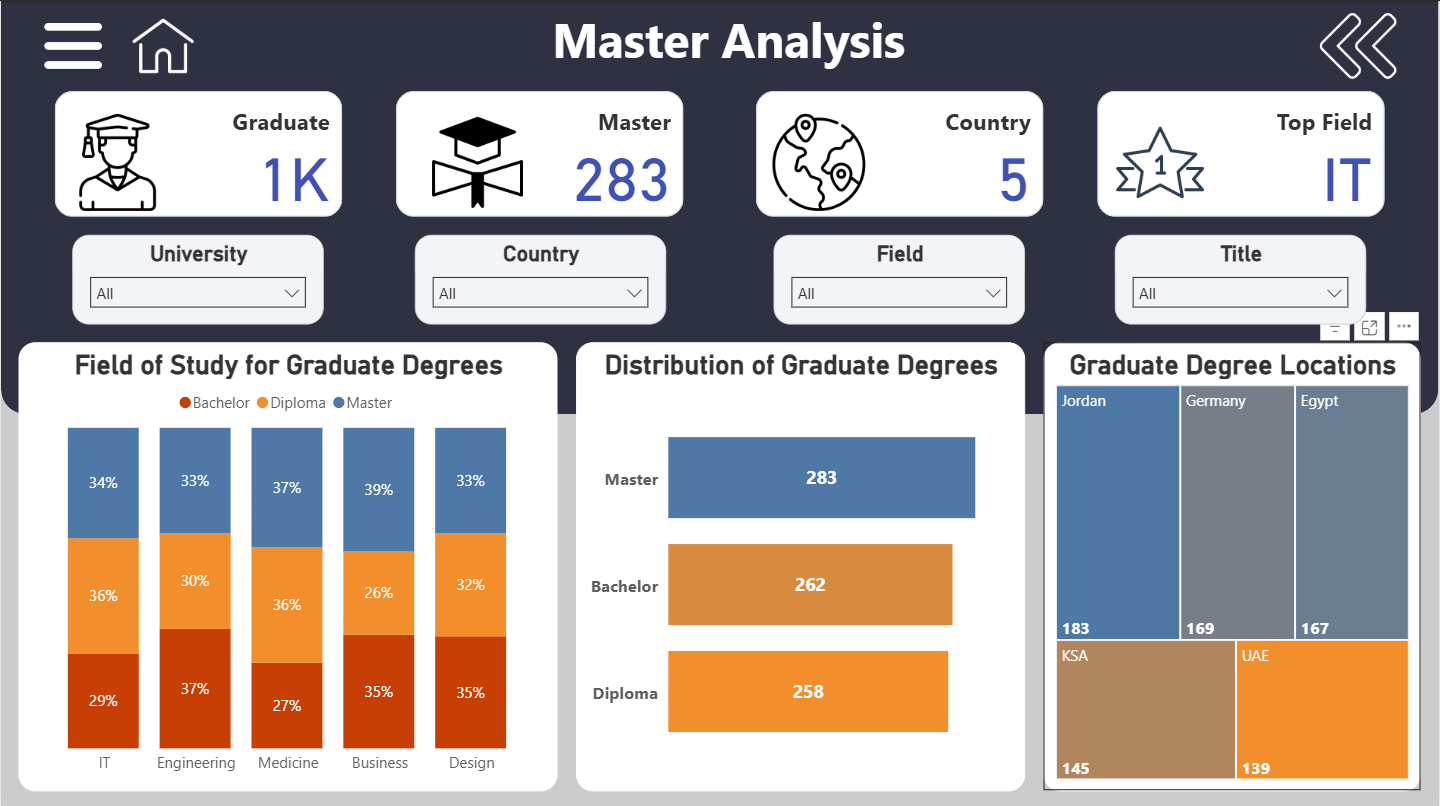

Layout of this report page (visuals, bound fields, positions):
{"tool":"powerbi","page":{"name":"20.Master Analysis","canvas":[1280,720],"ordinal":19},"visuals":[{"type":"shape","box":[0,0,1280,368],"z":0},{"type":"cardVisual","fields":{"Data":["Dim_Graduate.Master_Count"]},"box":[352,80,256,112],"z":1000},{"type":"cardVisual","fields":{"Data":["CountNonNull(Dim_Graduate.Grad_id_BK)"]},"box":[48,80,256,112],"z":2000},{"type":"cardVisual","fields":{"Data":["Dim_Graduate.Top Field"]},"box":[976,80,256,112],"z":3000},{"type":"cardVisual","fields":{"Data":["Count(Dim_Graduate.Country)"]},"box":[672,80,256,112],"z":4000},{"type":"treemap","title":"Graduate Degree Locations","fields":{"Group":["Dim_Graduate.Country"],"Values":["CountNonNull(Dim_Graduate.Grad_id_BK)"]},"box":[928,304,336,400],"z":5000},{"type":"slicer","title":"Country","fields":{"Values":["Dim_Graduate.Country"]},"box":[368,208,224,80],"z":6000},{"type":"slicer","title":"University","fields":{"Values":["Dim_Graduate.University"]},"box":[64,208,224,80],"z":7000},{"type":"slicer","title":"Field","fields":{"Values":["Dim_Graduate.Field"]},"box":[688,208,224,80],"z":8000},{"type":"textbox","box":[384,0,528,80],"z":9000},{"type":"barChart","title":"Distribution of Graduate Degrees","fields":{"Category":["Dim_Graduate.Mas_title"],"Y":["CountNonNull(Dim_Graduate.Grad_SK)"]},"box":[512,304,400,400],"z":10000},{"type":"hundredPercentStackedColumnChart","title":"Field of Study for Graduate Degrees","fields":{"Category":["Dim_Graduate.Field"],"Y":["CountNonNull(Dim_Graduate.Grad_id_BK)"],"Series":["Dim_Graduate.Mas_title"]},"box":[16,304,480,400],"z":11000},{"type":"slicer","title":"Title","fields":{"Values":["Dim_Graduate.Mas_title"]},"box":[992,208,224,80],"z":12000},{"type":"image","box":[48,96,112,96],"z":13000},{"type":"image","box":[976,96,112,96],"z":14000},{"type":"image","box":[368,96,112,96],"z":15000},{"type":"image","box":[672,96,112,96],"z":16000},{"type":"image","box":[1136,0,144,80],"z":17000},{"type":"image","box":[32,0,64,80],"z":18000},{"type":"image","box":[112,0,64,80],"z":19000}]}

Visuals, with their boxes in screenshot pixels (x1, y1, x2, y2), scaled from the page's 1280x720 canvas onto the 1440x806 screenshot:
shape: 0/0/1439/412
cardVisual - Dim_Graduate.Master_Count: 396/90/684/215
cardVisual - CountNonNull(Dim_Graduate.Grad_id_BK): 54/90/342/215
cardVisual - Dim_Graduate.Top Field: 1098/90/1386/215
cardVisual - Count(Dim_Graduate.Country): 756/90/1044/215
"Graduate Degree Locations" treemap: 1044/340/1422/788
"Country" slicer: 414/233/666/322
"University" slicer: 72/233/324/322
"Field" slicer: 774/233/1026/322
textbox: 432/0/1026/90
"Distribution of Graduate Degrees" barChart: 576/340/1026/788
"Field of Study for Graduate Degrees" hundredPercentStackedColumnChart: 18/340/558/788
"Title" slicer: 1116/233/1368/322
image: 54/107/180/215
image: 1098/107/1224/215
image: 414/107/540/215
image: 756/107/882/215
image: 1278/0/1439/90
image: 36/0/108/90
image: 126/0/198/90
